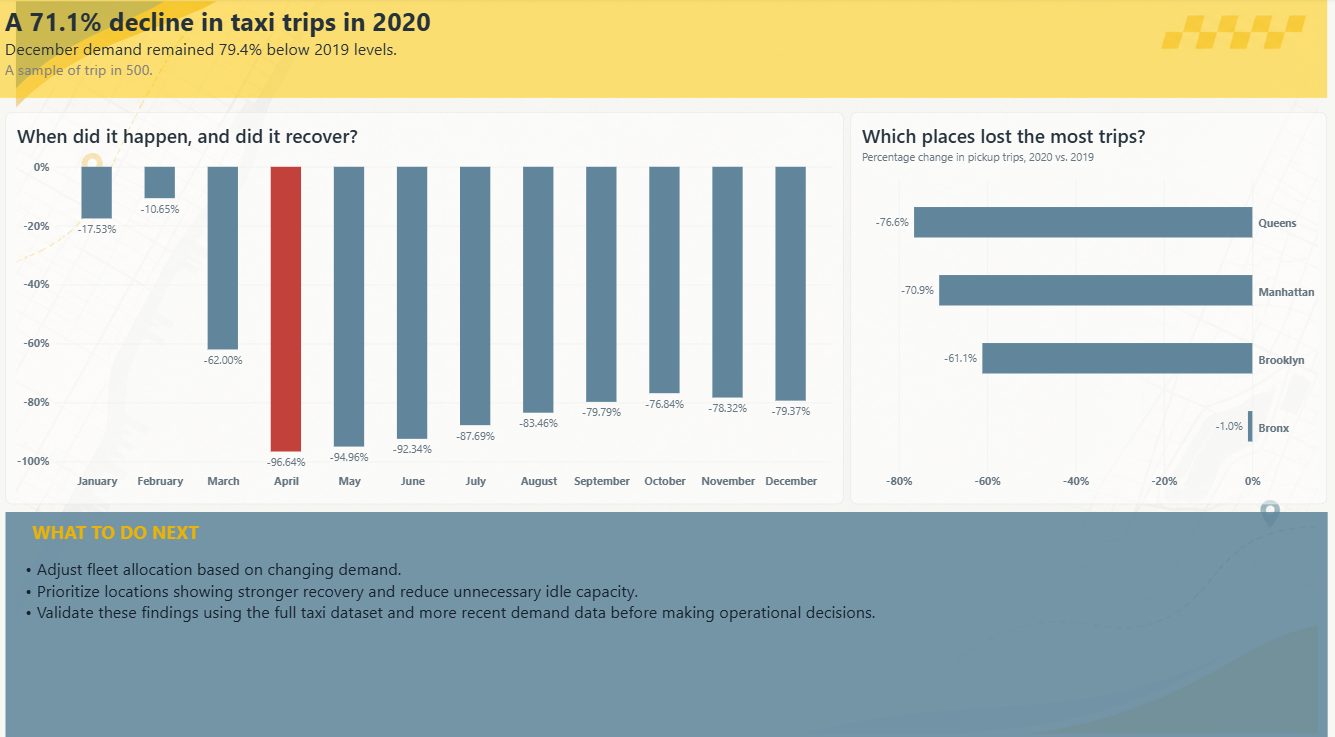

The dashboard page shown, as its layout file describes it:
{"tool":"powerbi","page":{"name":"Story","canvas":[1972,1100],"ordinal":2},"visuals":[{"type":"textbox","title":"The finding","box":[0,0,1960,148.6],"z":0},{"type":"clusteredColumnChart","title":"When did it happen, and did it recover?","fields":{"Category":["dates.month"],"Y":["trips.Trips YoY %"]},"box":[10.5,169.3,1236.2,578.4],"z":1000},{"type":"clusteredBarChart","title":"Which places lost the most trips?","fields":{"Category":["zones.Borough"],"Y":["trips.Trips YoY %"]},"box":[1257.2,169.3,702.8,578.4],"z":2000},{"type":"textbox","box":[10.5,759.7,1949.5,340.2],"z":3000}]}

Visuals, with their boxes in screenshot pixels (x1, y1, x2, y2), scaled from the page's 1972x1100 canvas onto the 1335x737 screenshot:
"The finding" textbox: (0, 0, 1327, 100)
"When did it happen, and did it recover?" clusteredColumnChart: (7, 113, 844, 501)
"Which places lost the most trips?" clusteredBarChart: (851, 113, 1327, 501)
textbox: (7, 509, 1327, 736)
